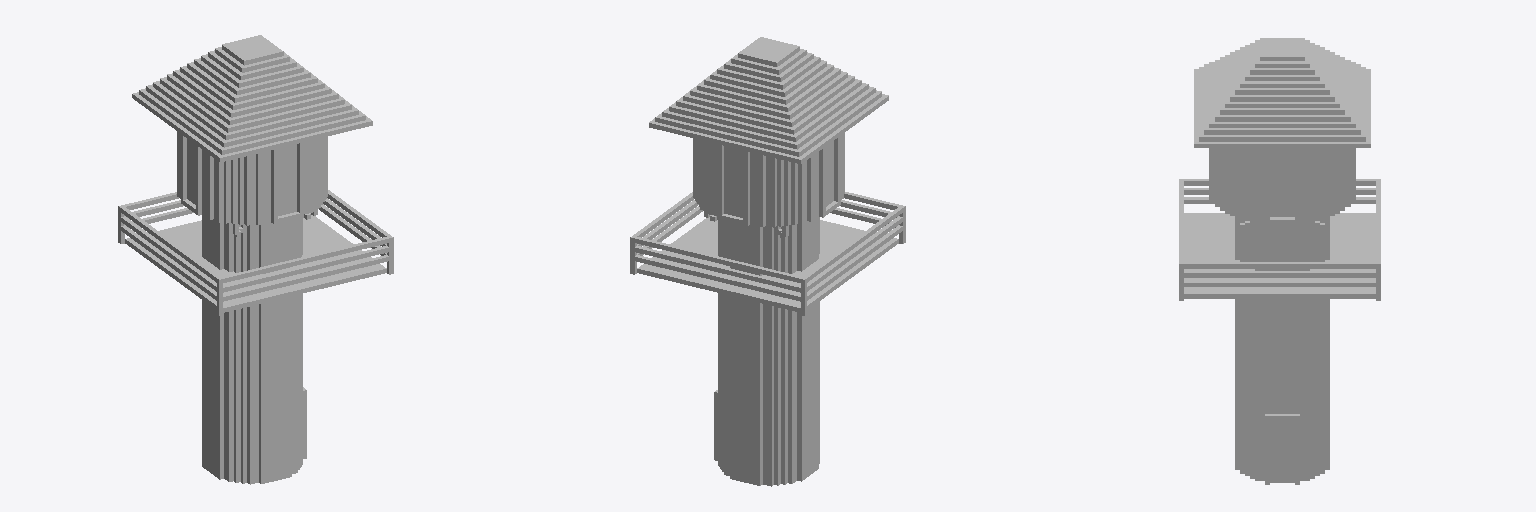
File: tower.obj
3 views of the same model, side by side, from view 1: azimuth 30°, elevation 25°; view 2: azimuth 150°, elevation 25°; view 3: azimuth 270°, elevation 25° (orthographic).
Visible parts, largest first — view 1: object 1; view 2: object 1; view 3: object 1.
Boxes of the visible parts, box(x1,y1,x2,y2) form: object 1: box(118, 35, 393, 484); object 1: box(630, 37, 905, 486); object 1: box(1179, 38, 1380, 484).
Bounding box in the file's own units: 4 × 9.1 × 4.